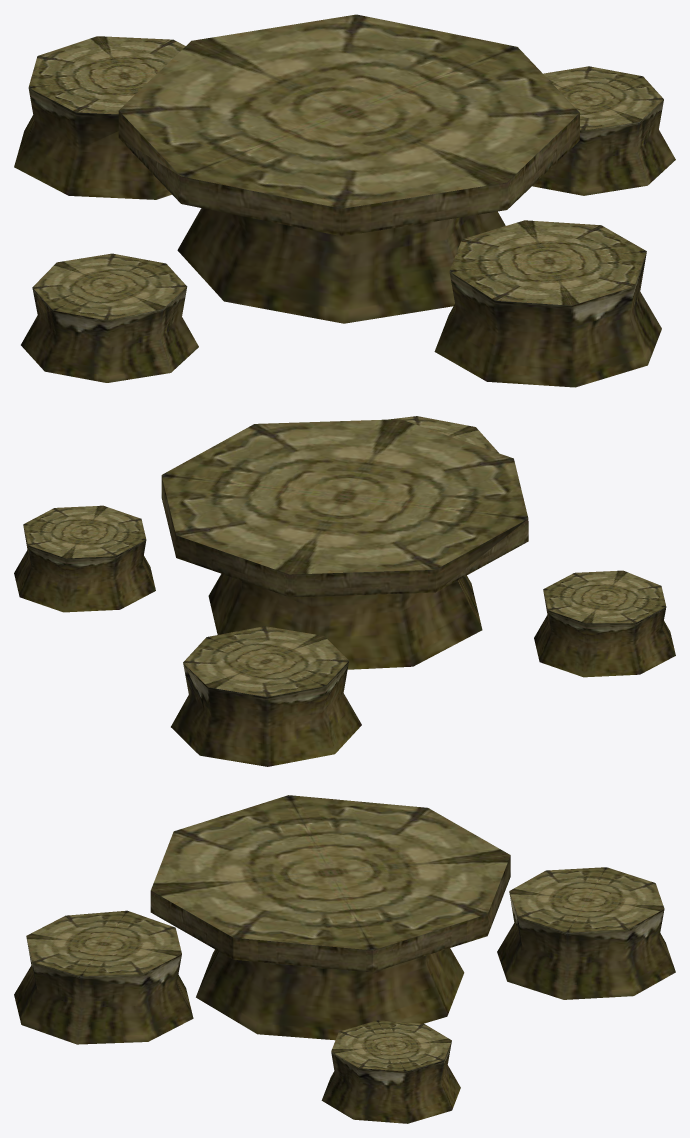
Rendered from GYMA00104_01.FBX.
3 views of the same model, one above another, from view 1: azimuth 30°, elevation 25°; view 2: azimuth 150°, elevation 25°; view 3: azimuth 270°, elevation 25° (orthographic). The views are drawn at different scales.
Parts seen in each view (by area): view 1: MA00104_01; view 2: MA00104_01; view 3: MA00104_01.
Part boxes in pixels (x1=…): MA00104_01: x1=14, y1=14, x2=675, y2=387; MA00104_01: x1=14, y1=416, x2=675, y2=766; MA00104_01: x1=14, y1=795, x2=675, y2=1123.
Size of the model in its own units: 4.57 by 0.9084 by 4.66.
